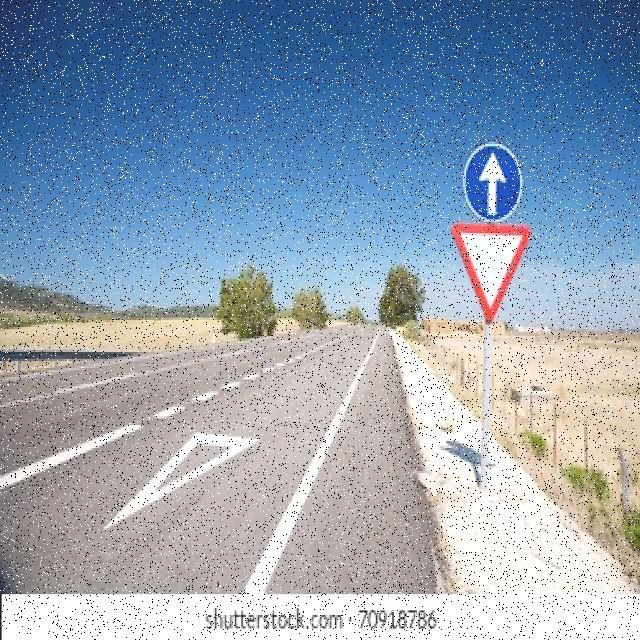Traffic sign: (447, 137, 535, 326)
